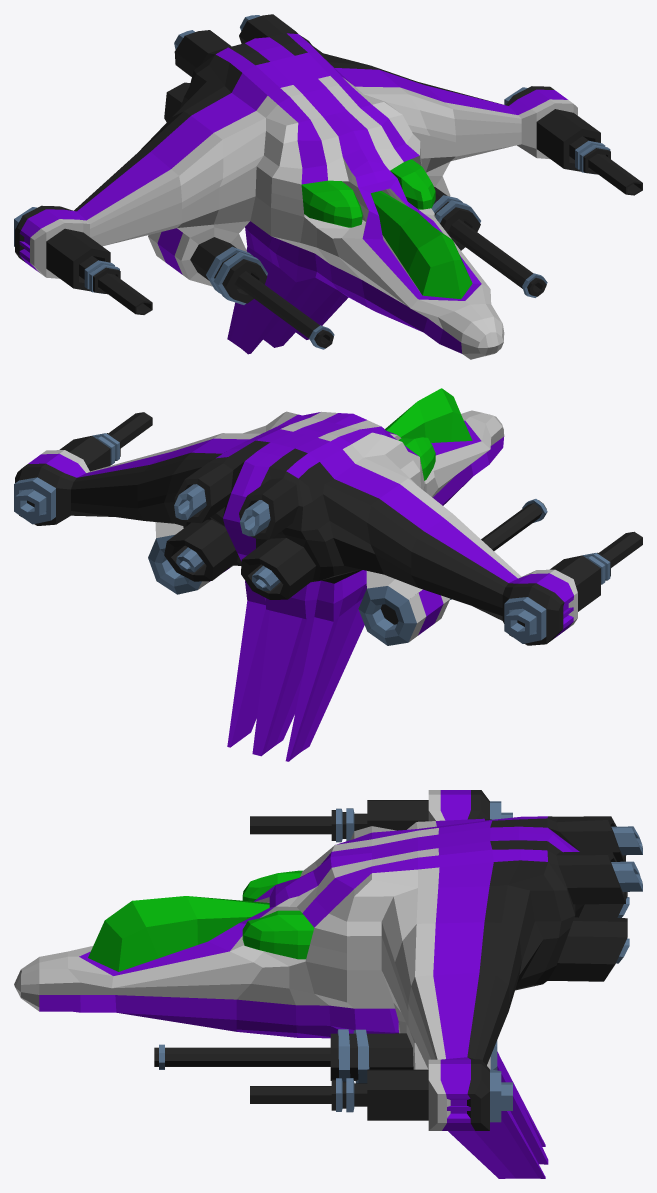
The model's file is Skullflower.fbx.
3 renders of one model, top to bottom at view 1: azimuth 30°, elevation 25°; view 2: azimuth 150°, elevation 25°; view 3: azimuth 270°, elevation 25°, orthographic. The views are drawn at different scales.
Visible parts, largest first — view 1: Cube.001; view 2: Cube.001; view 3: Cube.001.
Boxes of the visible parts, x1,y1,x2,y2 form: Cube.001: (14, 14, 642, 359); Cube.001: (14, 388, 642, 761); Cube.001: (14, 790, 642, 1178).
Size of the model in its own units: 2213 by 1135 by 1968.
